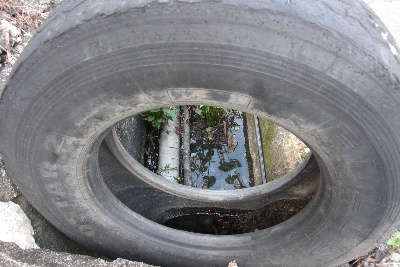tire: (2, 3, 400, 266)
